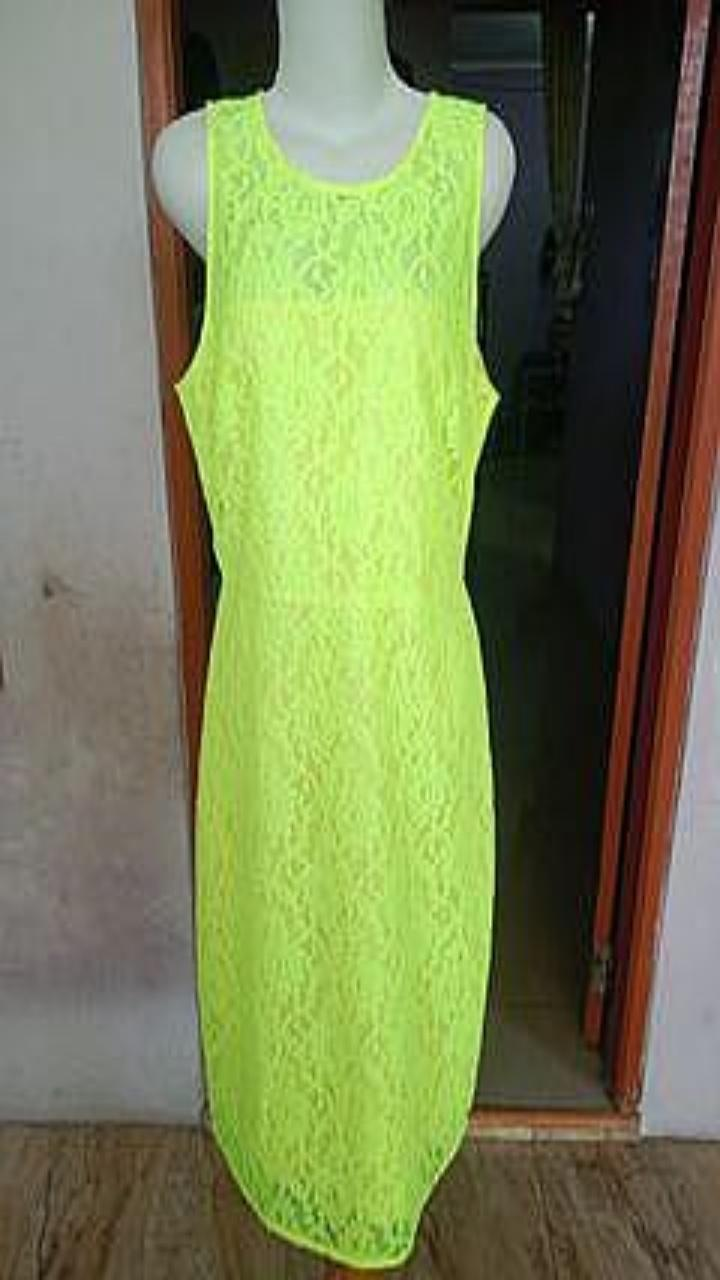Dresses: (176, 90, 498, 1266)
